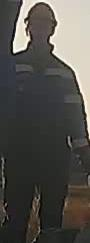gloves: (74, 143, 90, 175)
helmet: (24, 1, 58, 32)
vest: (7, 53, 78, 167)
